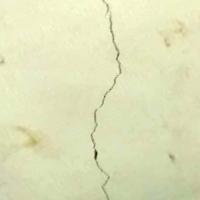crack: (80, 0, 140, 199)
